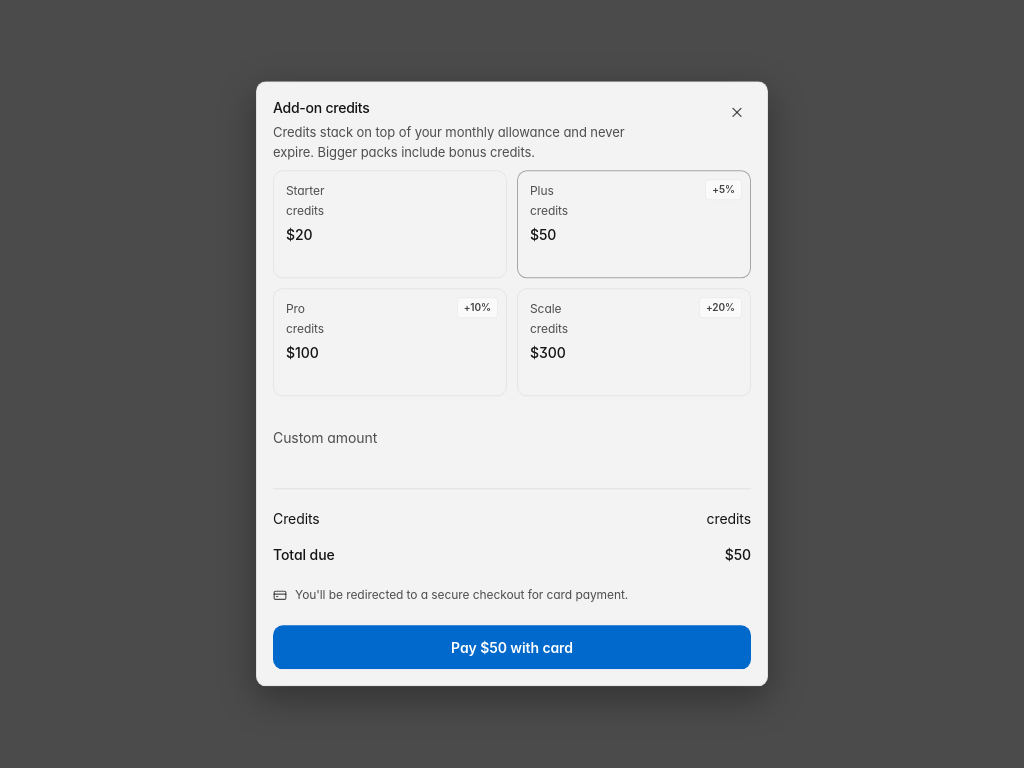
Test: AddOnCreditsDialog › announces checkout errors without closing the package picker
Click the button "Pay $50 with card".
click(512, 648)  # box [273,626,751,670]
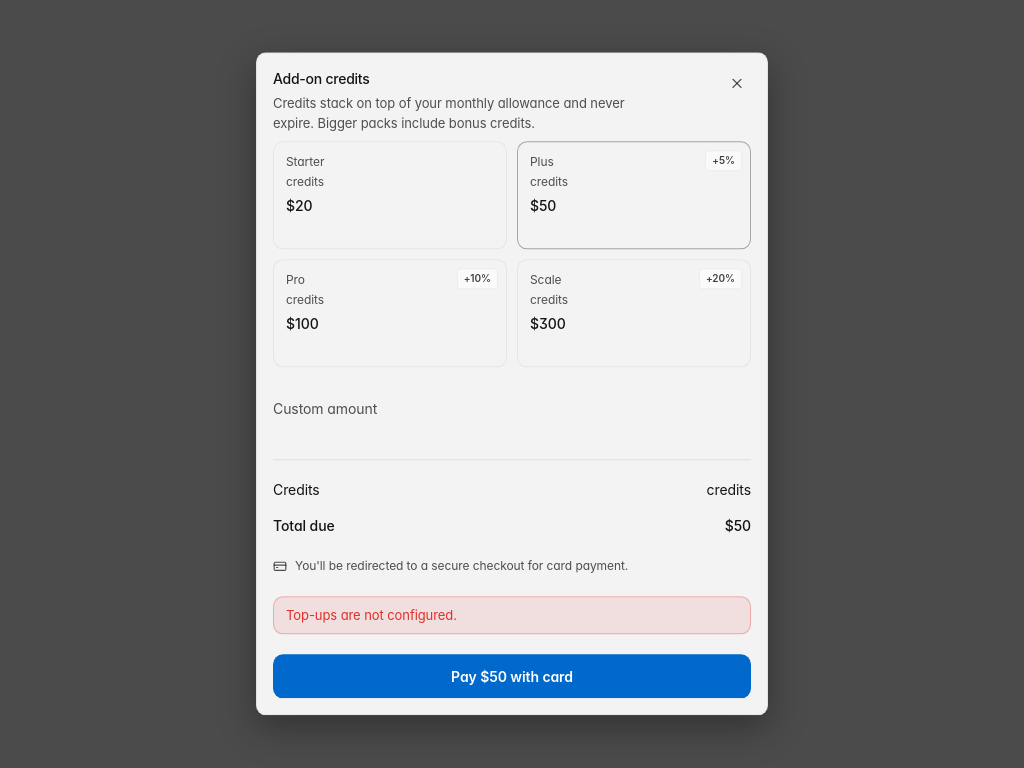
Check: the dialog is shown, box [256,52,768,716]
Check: the message reads "Top-ups are not configured.", box [286,608,457,624]
